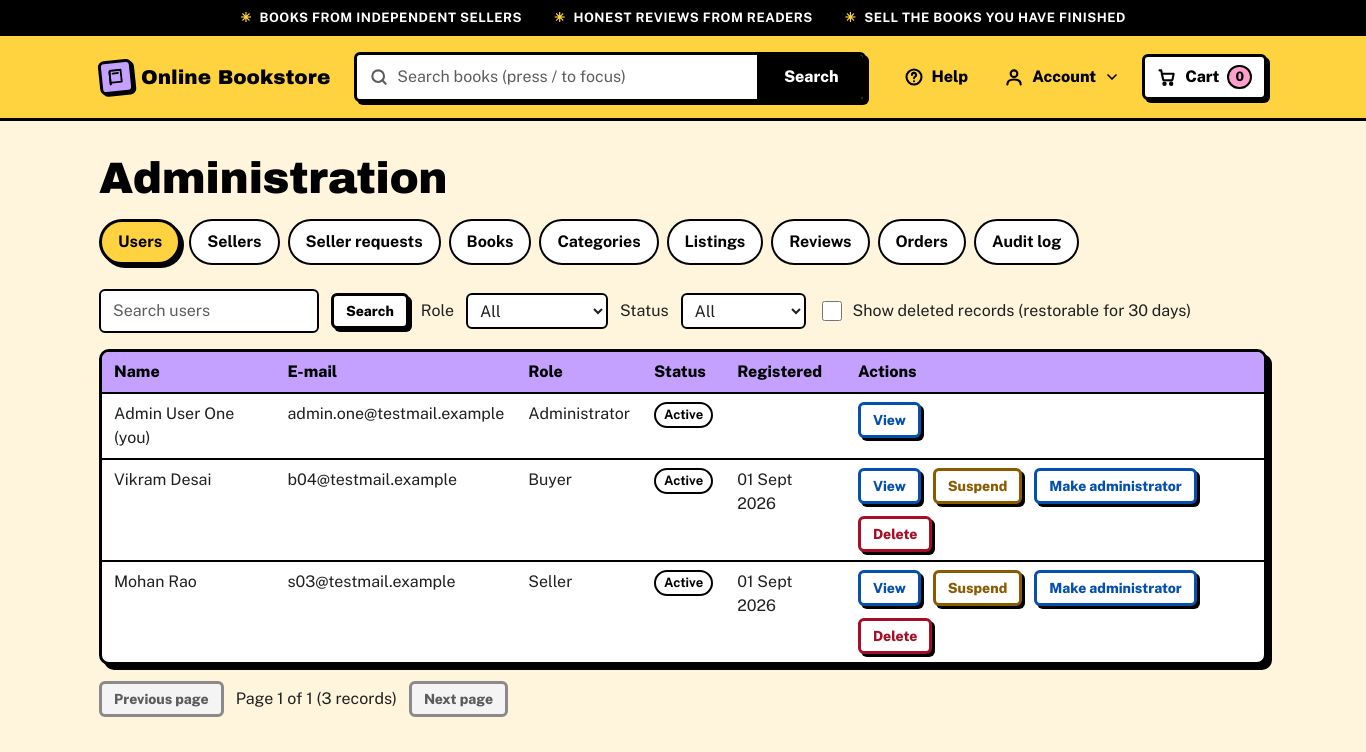
Scenario: Administration console › TC-NFR-UI-03: cancelling a delete changes nothing; confirming deletes
Expected: the heading "Administration" is shown, [99,154,447,202]
Expected: the table is shown, [102,352,1264,662]
Click the button with aria-label "Delete Vikram Desai". click: (895, 534)
box: [858,516,932,552]
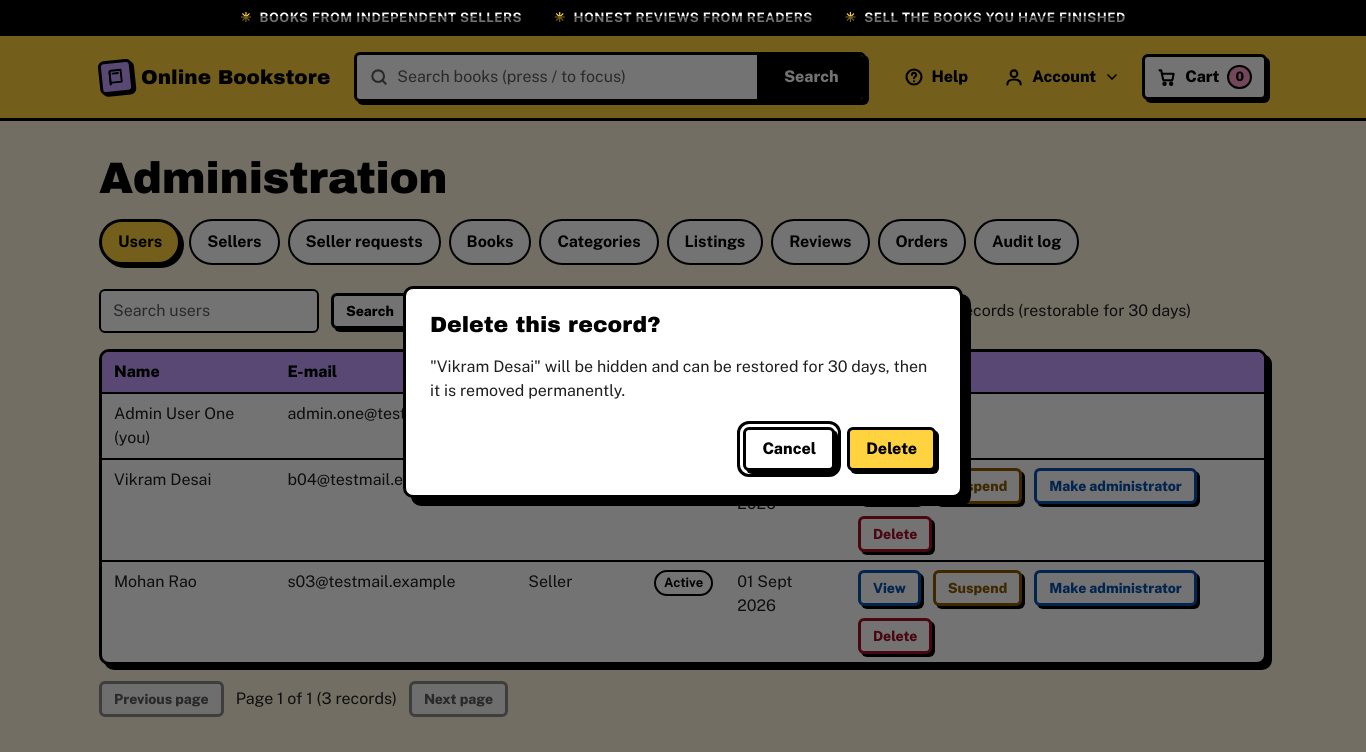
Click the button "Cancel". click: (789, 449)
box: [743,427,835,471]
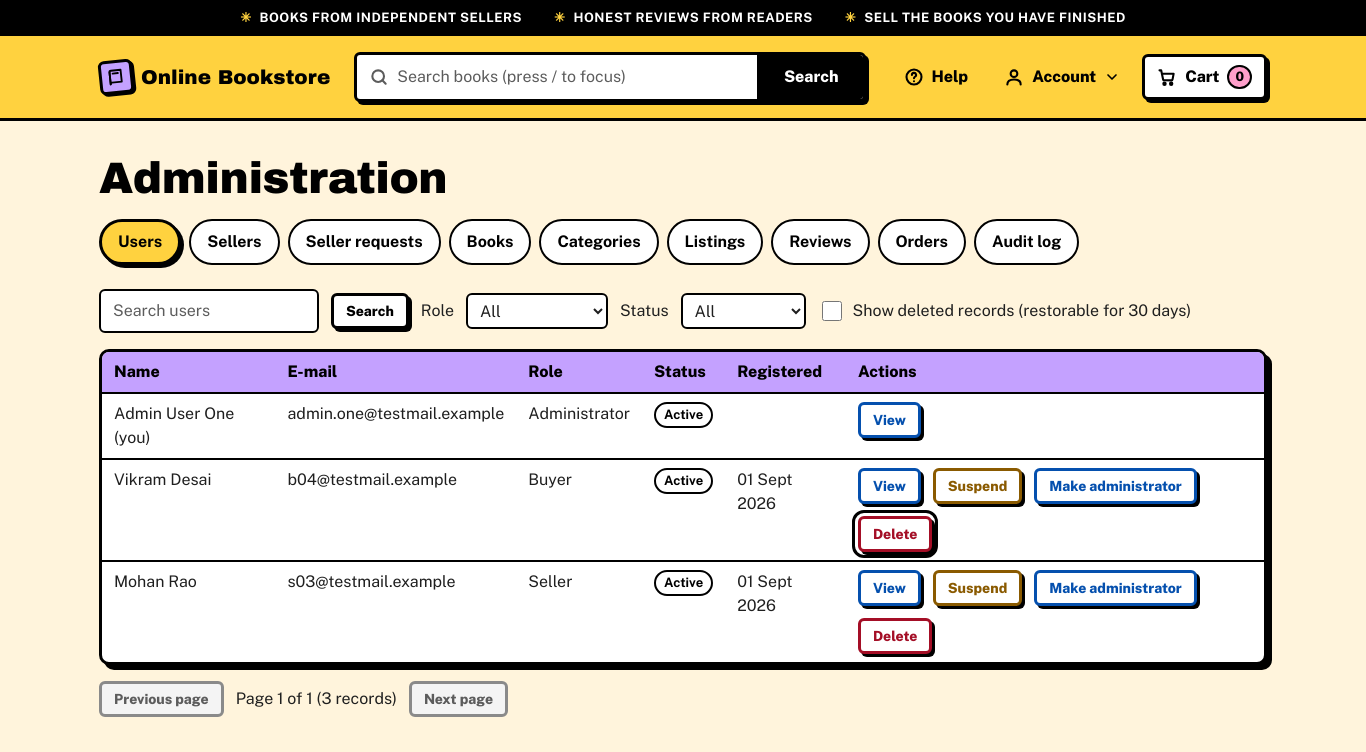
Click the button with aria-label "Delete Vikram Desai". click: (895, 534)
box: [858,516,932,552]
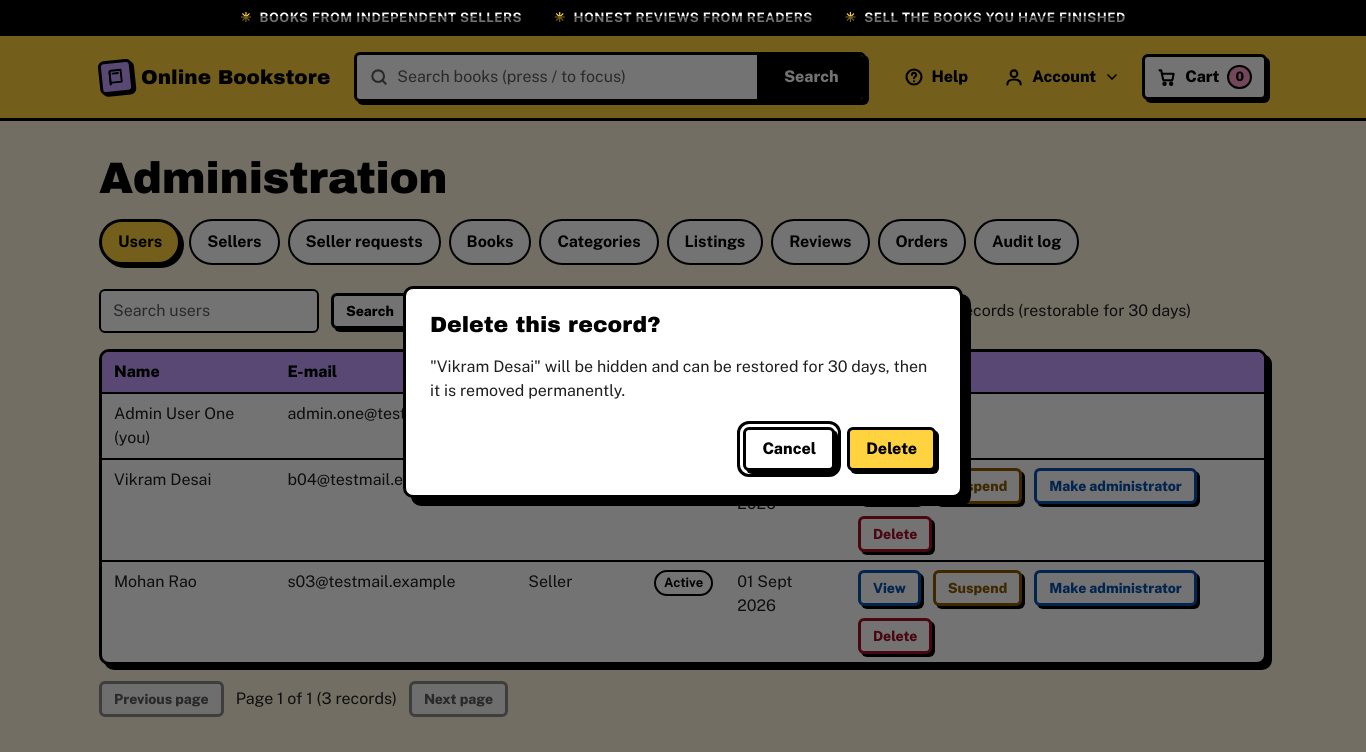
Expected: the dialog shows "can be restored for 30 days", [430,357,927,400]
Click the button "Delete". click: (892, 449)
box: [847,427,936,471]
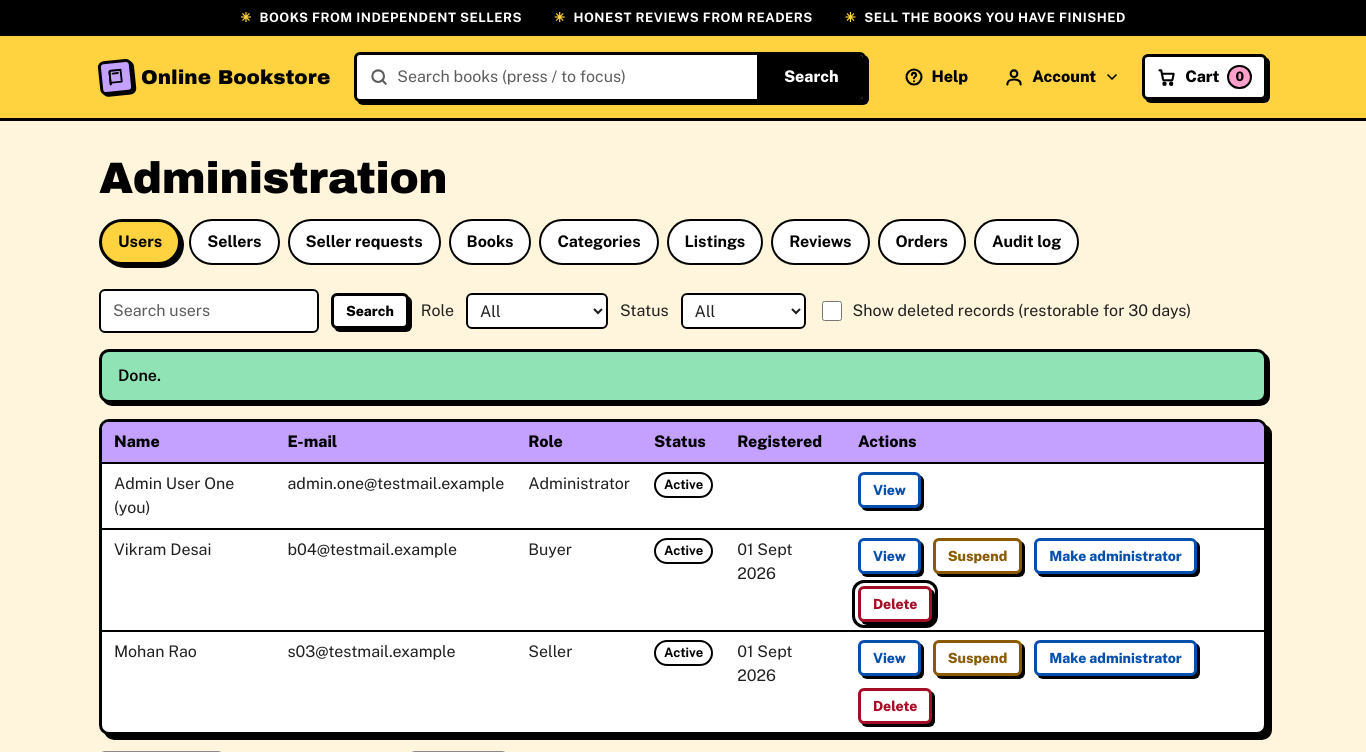
Expected: the text "Done." is shown, [99,349,1267,403]
